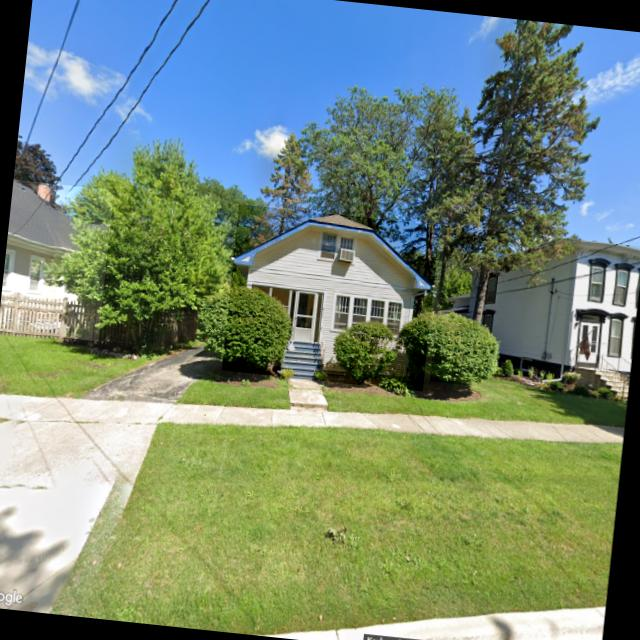House: (222, 204, 439, 391), (429, 226, 640, 402), (0, 179, 113, 341)
